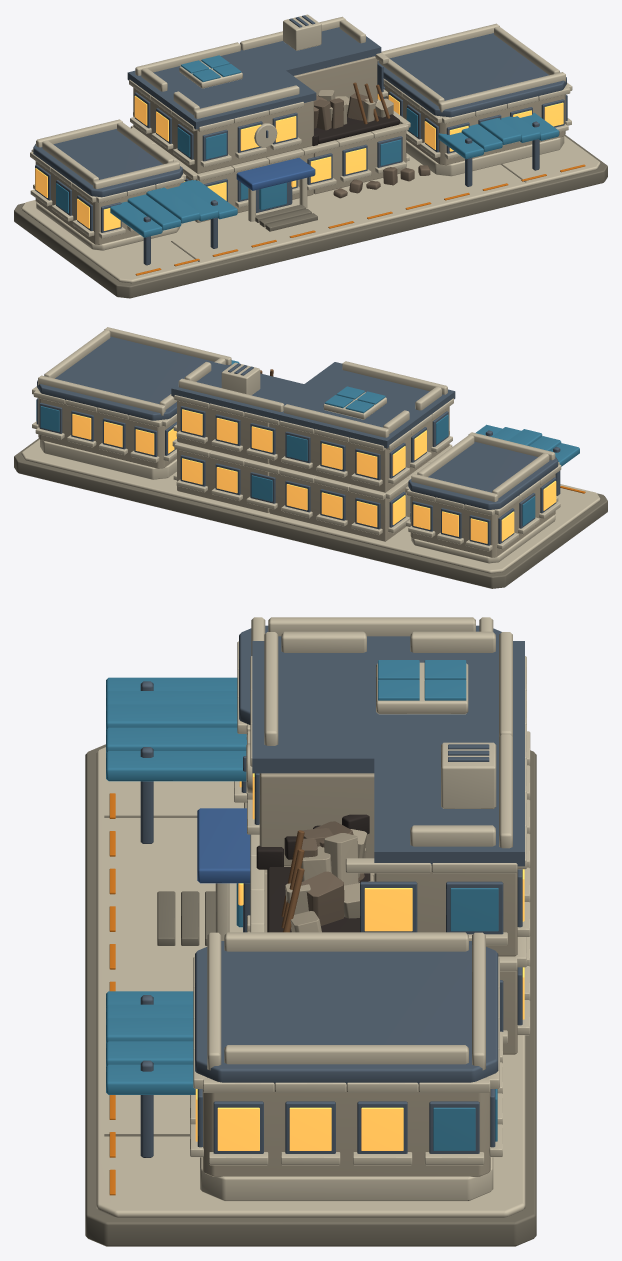
Rendered from civilian-station-damaged.glb.
3 views of the same model, one above another, from view 1: azimuth 30°, elevation 25°; view 2: azimuth 150°, elevation 25°; view 3: azimuth 270°, elevation 25° (orthographic). The views are drawn at different scales.
Parts seen in each view (by area): view 1: CivilianShell; view 2: CivilianShell; view 3: CivilianShell.
Boxes of the visible parts, box(x1,y1,x2,y2) form: CivilianShell: box(14, 14, 607, 298); CivilianShell: box(14, 327, 607, 588); CivilianShell: box(85, 617, 536, 1246).
Size of the model in its own units: 4.97 by 1.38 by 1.98.
